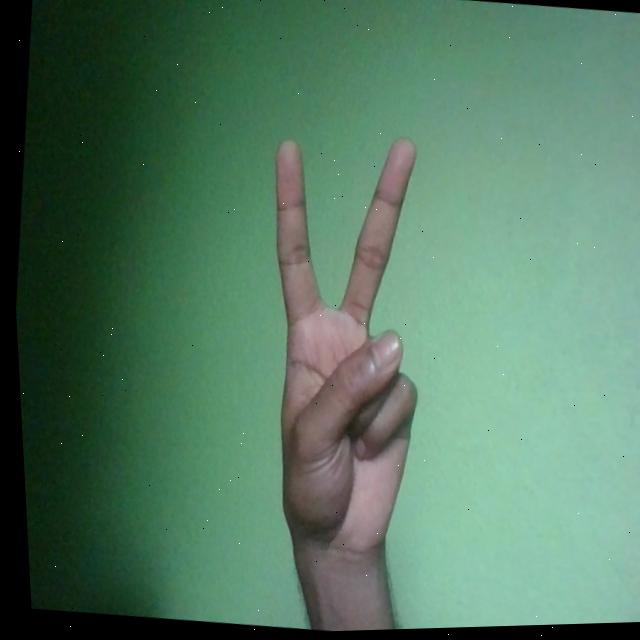Peace: (230, 123, 448, 573)
